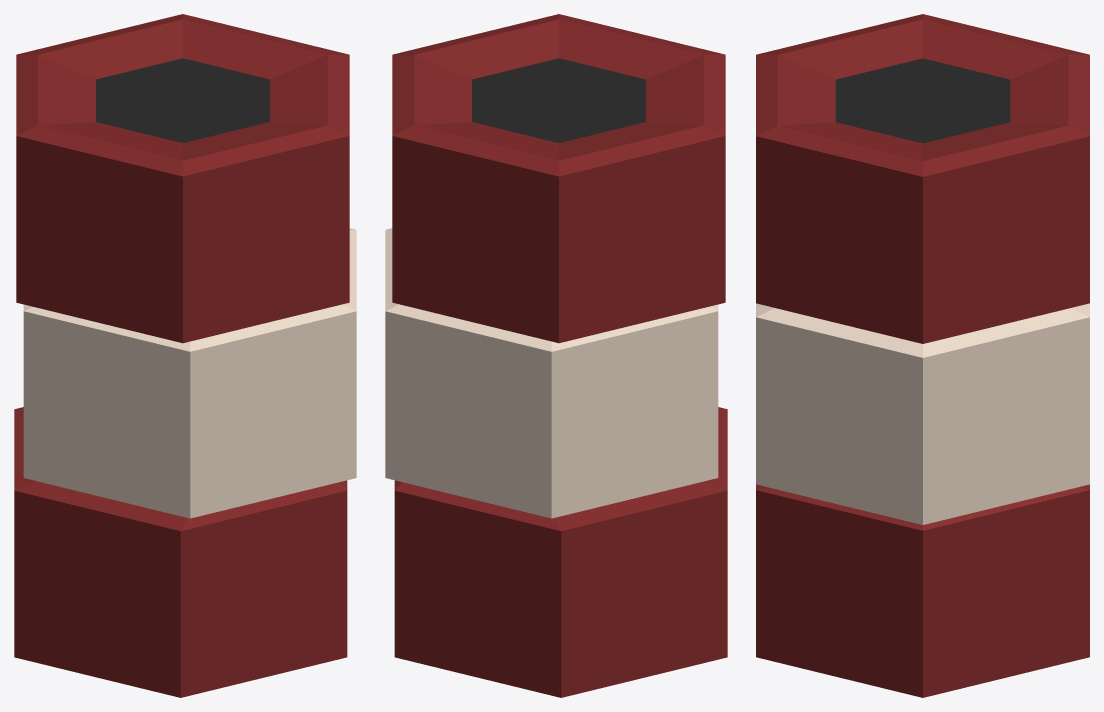
Rendered from racing-tire-pile.glb.
3 renders of one model, left to right at view 1: azimuth 30°, elevation 25°; view 2: azimuth 150°, elevation 25°; view 3: azimuth 270°, elevation 25°, orthographic.
Parts seen in each view (by area): view 1: tire-pile; view 2: tire-pile; view 3: tire-pile.
Part boxes in pixels (box(x1,y1,x2,y2)): tire-pile: box(14, 14, 356, 697); tire-pile: box(385, 14, 727, 697); tire-pile: box(756, 14, 1089, 697).
Bounding box in the file's own units: 0.9461 × 1.4 × 0.7967.
